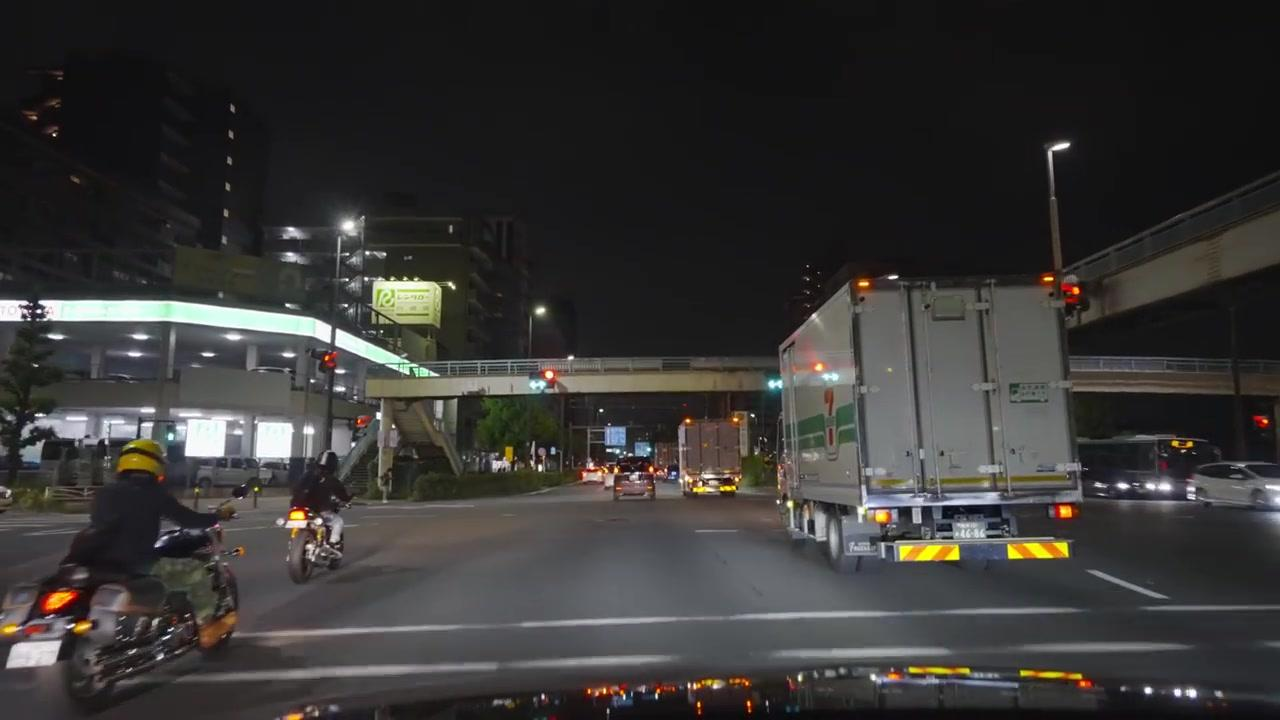car: (1078, 433, 1225, 501), (1193, 461, 1280, 511), (194, 457, 273, 492), (612, 461, 657, 500), (580, 466, 604, 483), (0, 484, 13, 512), (661, 465, 678, 480)
motorcycle: (0, 541, 246, 708), (279, 503, 346, 583)
person: (64, 436, 229, 646), (291, 450, 355, 553)
traffic light: (1061, 278, 1082, 310), (352, 413, 372, 440), (319, 349, 338, 377), (542, 367, 558, 390)
truck: (776, 274, 1085, 576), (677, 418, 743, 497)
